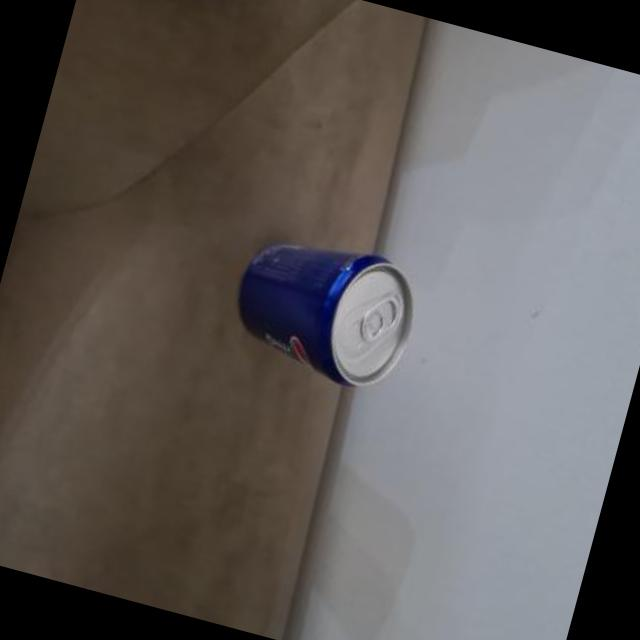metal: (242, 242, 414, 383)
